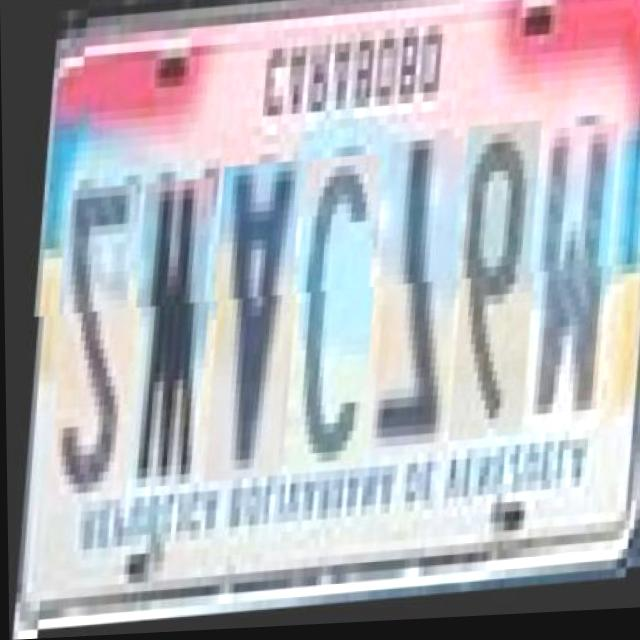2: (39, 187, 135, 506)
6: (440, 129, 541, 450)
7: (362, 144, 462, 465)
a: (196, 165, 301, 486)
c: (279, 159, 379, 480)
m: (518, 134, 618, 444)
w: (117, 182, 213, 501)
